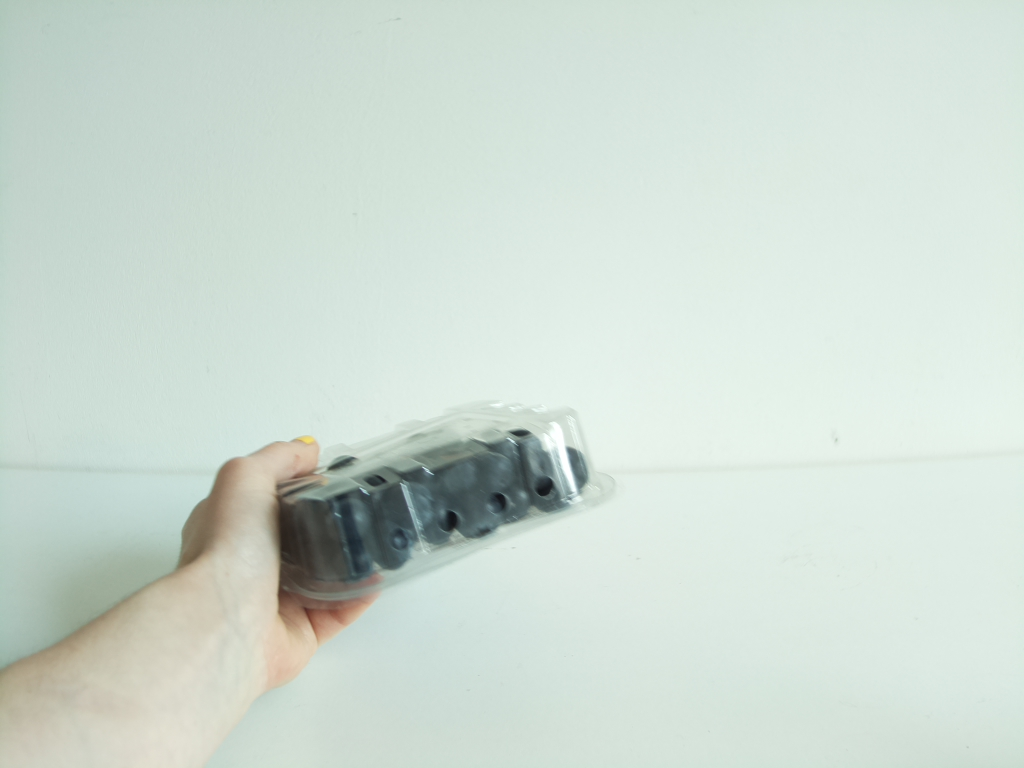soft-fruit: (268, 403, 608, 596)
